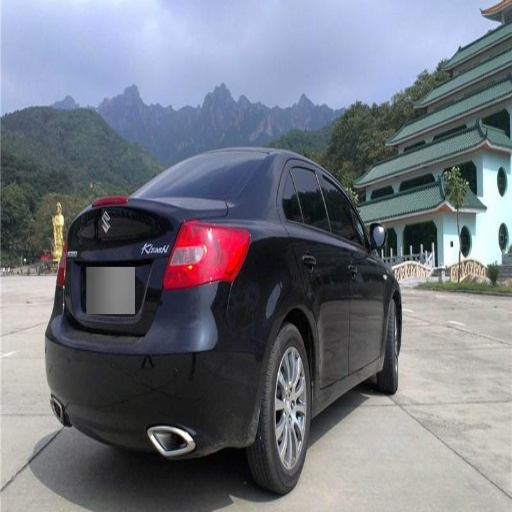back_bumper: (43, 281, 269, 460)
back_right_door: (279, 159, 348, 386)
